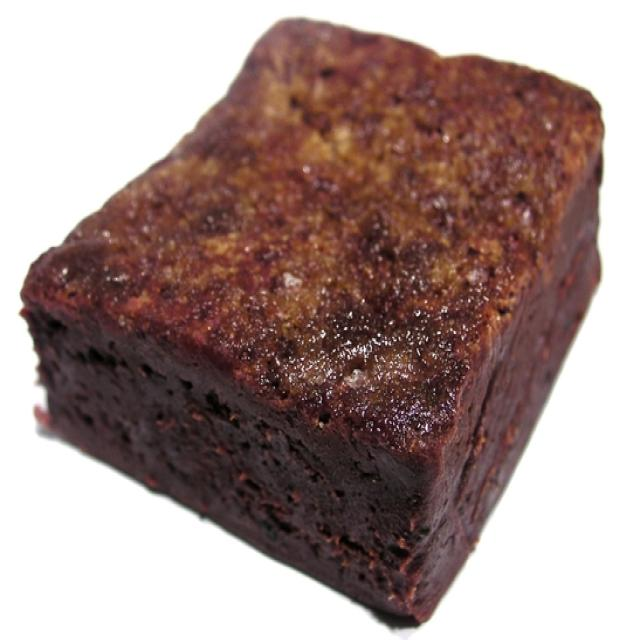蛋糕甜品: (61, 24, 615, 617)
